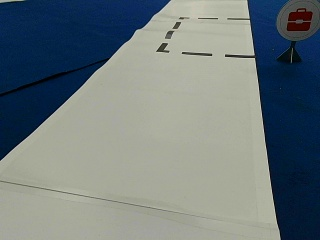company: (276, 0, 319, 39)
